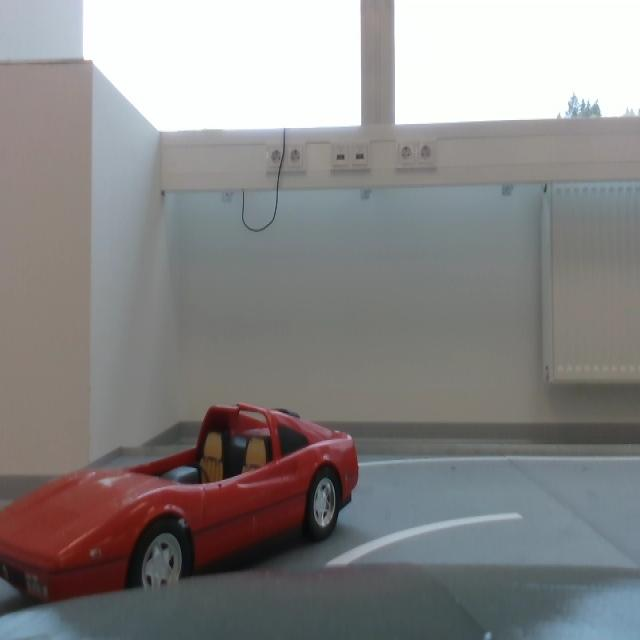car: (2, 393, 372, 613)
